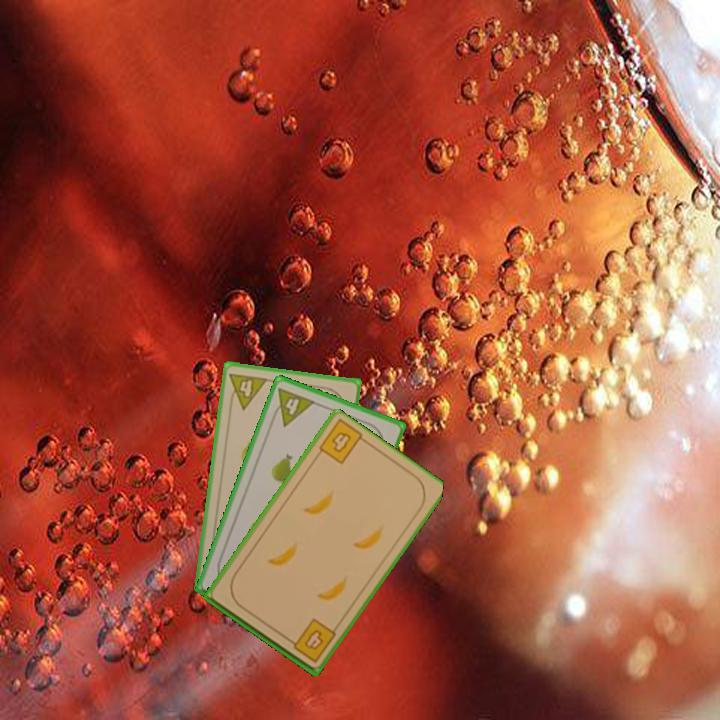4b: (283, 615, 339, 665), (328, 427, 354, 455)
4p: (267, 384, 318, 429), (225, 369, 270, 412)
